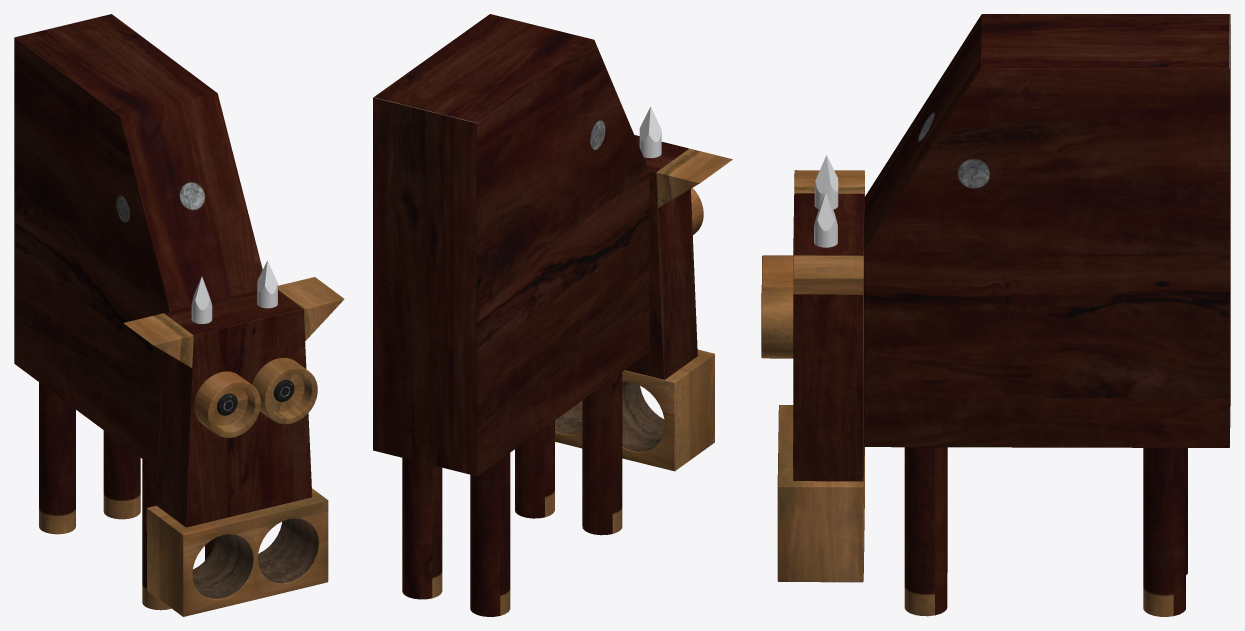
The model's file is cow.fbx.
3 renders of one model, left to right at view 1: azimuth 30°, elevation 25°; view 2: azimuth 150°, elevation 25°; view 3: azimuth 270°, elevation 25°, orthographic. The views are drawn at different scales.
Parts seen in each view (by area): view 1: polySurface53, polySurface54, polySurface61, polySurface85, polySurface58, polySurface57, polySurface86, polySurface55, polySurface56, polySurface83, polySurface59, polySurface60; view 2: polySurface53, polySurface61, polySurface54, polySurface85, polySurface83, polySurface86, polySurface84, polySurface56, polySurface60; view 3: polySurface53, polySurface54, polySurface61, polySurface84, polySurface86, polySurface55, polySurface57, polySurface56, polySurface58, polySurface59, polySurface60.
Boxes of the visible parts, bbox=[...] form: polySurface53: bbox=[14, 14, 262, 469]; polySurface54: bbox=[156, 290, 312, 527]; polySurface61: bbox=[146, 488, 328, 616]; polySurface85: bbox=[39, 382, 75, 534]; polySurface58: bbox=[194, 371, 260, 438]; polySurface57: bbox=[252, 357, 317, 424]; polySurface86: bbox=[103, 430, 140, 519]; polySurface55: bbox=[278, 277, 344, 340]; polySurface56: bbox=[123, 313, 193, 367]; polySurface83: bbox=[142, 459, 171, 610]; polySurface59: bbox=[257, 260, 277, 308]; polySurface60: bbox=[191, 276, 212, 323]; polySurface53: bbox=[373, 14, 649, 476]; polySurface61: bbox=[555, 349, 714, 471]; polySurface54: bbox=[625, 135, 697, 379]; polySurface85: bbox=[470, 453, 510, 616]; polySurface83: bbox=[582, 372, 622, 535]; polySurface86: bbox=[402, 458, 442, 599]; polySurface84: bbox=[515, 420, 554, 518]; polySurface56: bbox=[656, 148, 732, 207]; polySurface60: bbox=[639, 106, 661, 158]; polySurface53: bbox=[864, 14, 1230, 447]; polySurface54: bbox=[793, 193, 864, 481]; polySurface61: bbox=[777, 405, 864, 582]; polySurface84: bbox=[904, 447, 947, 616]; polySurface86: bbox=[1143, 448, 1185, 616]; polySurface55: bbox=[793, 255, 863, 294]; polySurface57: bbox=[761, 287, 793, 358]; polySurface56: bbox=[794, 170, 864, 196]; polySurface58: bbox=[761, 255, 793, 287]; polySurface59: bbox=[814, 192, 837, 247]; polySurface60: bbox=[814, 155, 838, 209].
Size of the model in its own units: 6.35 by 15 by 11.62.
